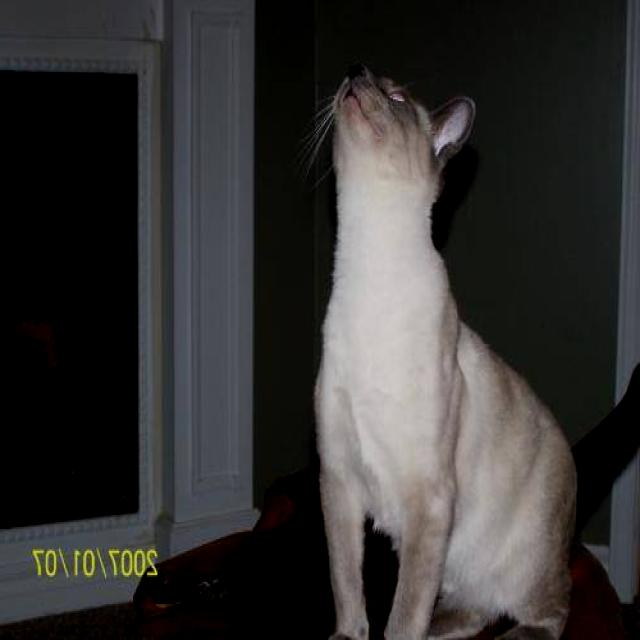Kucing: (274, 28, 627, 640)
